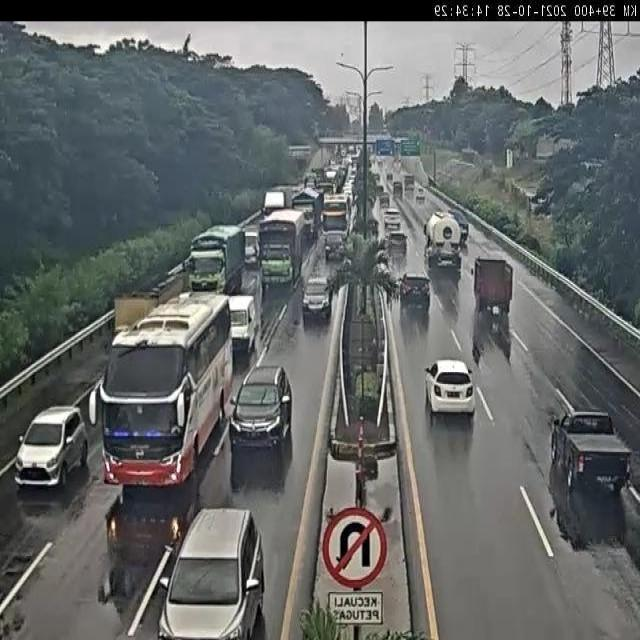Bus: (95, 308, 236, 504)
Car: (161, 506, 272, 640), (550, 407, 634, 495), (8, 404, 86, 493), (227, 364, 292, 454), (422, 349, 476, 428), (318, 192, 354, 235), (302, 276, 332, 324), (399, 273, 432, 310), (448, 209, 469, 243), (324, 232, 345, 260), (387, 231, 407, 258), (383, 206, 402, 234), (379, 191, 390, 209), (416, 186, 425, 202)
Truck: (187, 224, 247, 297), (259, 208, 307, 292), (469, 252, 517, 320), (422, 209, 465, 275), (473, 304, 511, 366), (113, 294, 164, 338), (291, 186, 324, 242), (264, 190, 287, 216)
Van: (227, 293, 258, 357)
